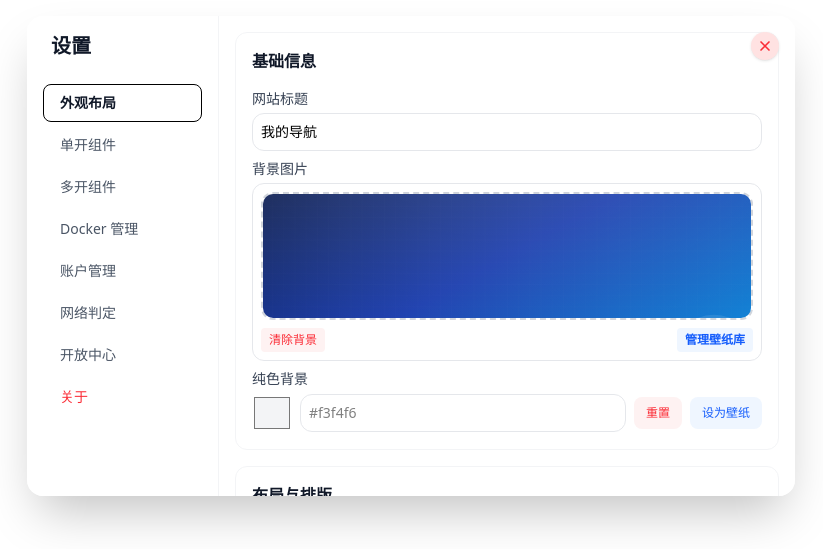
Test: SettingsModal Custom JS Logic › shows textarea after agreeing to disclaimer
# Switch to tab
Step 1. Click the button "开放中心" → [122, 355], box 43,336 -> 202,374
(page scrolled)
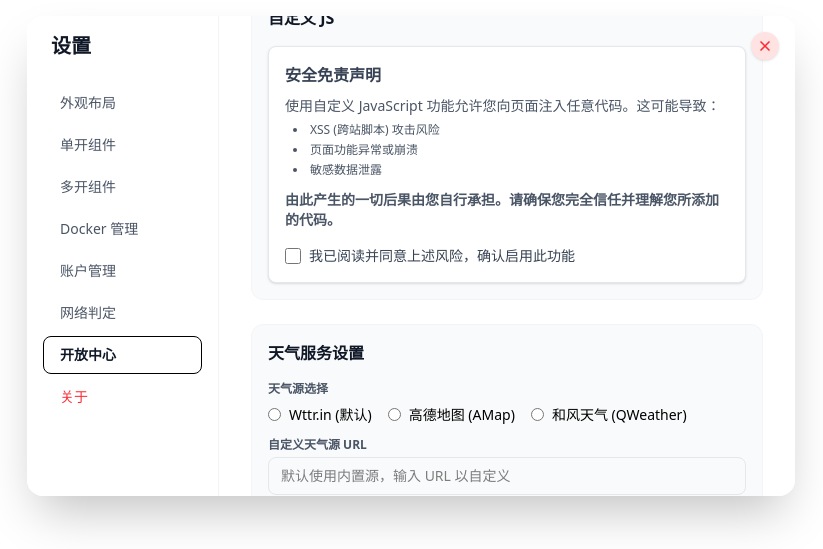
Expected: the label "我已阅读并同意上述风险，确认启用此功能" is shown, 285,246 -> 575,265
Step 2. Click the checkbox labelled "我已阅读并同意上述风险，确认启用此功能" → [293, 256], box 285,248 -> 301,264
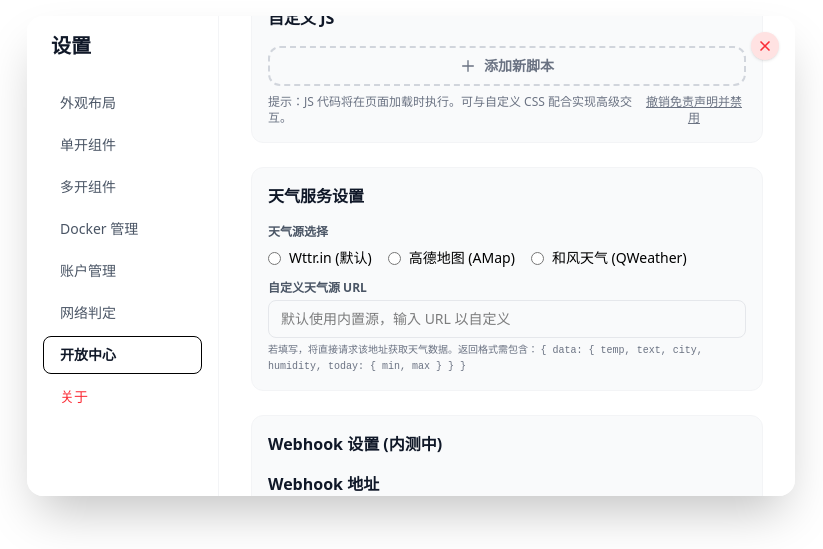
Expected: the element showing "自定义 JS 添加新脚本 提示：JS 代码将在页面加载时执行。可与自定义 CSS 配合实现高级交互。 撤销免责声明并禁用" is shown, 251,16 -> 763,143
Expected: the button "添加新脚本" is shown
Step 3. Click the button "添加新脚本" → [507, 66], box 268,46 -> 746,86
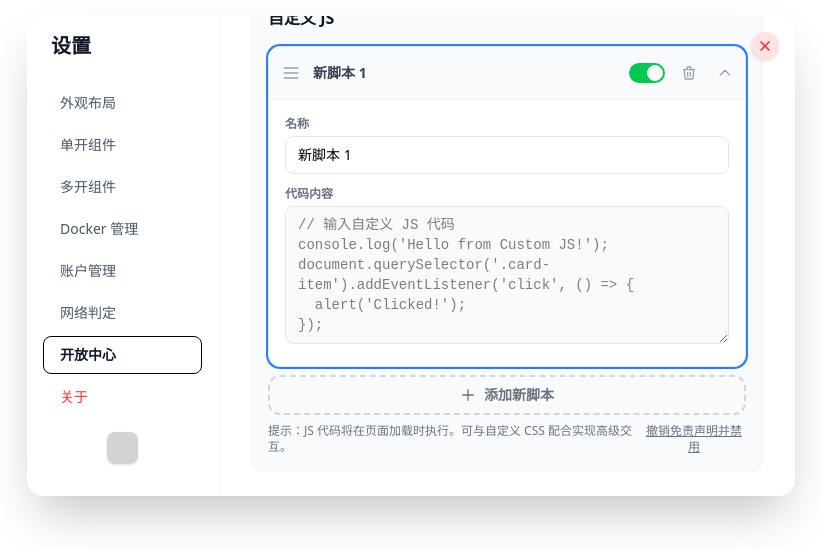
Expected: the text box is shown, 285,206 -> 729,344
